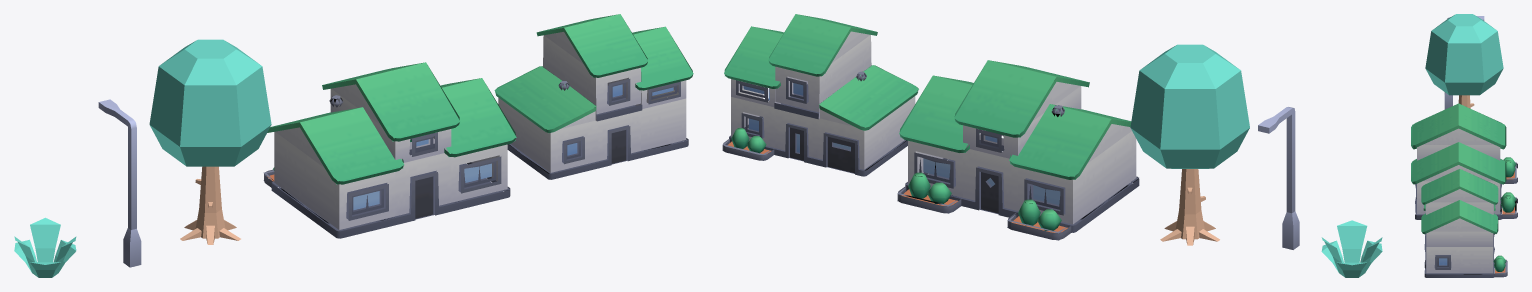
Rendered from Suburb.fbx.
3 views of the same model, side by side, from view 1: azimuth 30°, elevation 25°; view 2: azimuth 150°, elevation 25°; view 3: azimuth 270°, elevation 25° (orthographic). The views are drawn at different scales.
Parts seen in each view (by area): view 1: Suburb_House, Suburb_HouseBlue, Suburb_Oak, Suburb_Hedge, Suburb_StreetLamp; view 2: Suburb_House, Suburb_HouseBlue, Suburb_Oak, Suburb_Hedge, Suburb_StreetLamp; view 3: Suburb_HouseBlue, Suburb_House, Suburb_Oak, Suburb_StreetLamp.
Part boxes in pixels (<box>): Suburb_House: <box>263,62,516,238</box>; Suburb_HouseBlue: <box>494,14,693,179</box>; Suburb_Oak: <box>149,39,271,244</box>; Suburb_Hedge: <box>14,217,76,277</box>; Suburb_StreetLamp: <box>98,99,141,267</box>; Suburb_House: <box>897,60,1139,240</box>; Suburb_HouseBlue: <box>722,14,918,176</box>; Suburb_Oak: <box>1130,44,1249,245</box>; Suburb_Hedge: <box>1321,220,1382,277</box>; Suburb_StreetLamp: <box>1258,107,1299,249</box>; Suburb_HouseBlue: <box>1421,169,1507,277</box>; Suburb_House: <box>1411,103,1517,219</box>; Suburb_Oak: <box>1425,14,1503,108</box>; Suburb_StreetLamp: <box>1444,16,1484,109</box>.
Bounding box in the file's own units: 66.38 × 18 × 14.8.
Materials: 5 (5 with a texture image).
